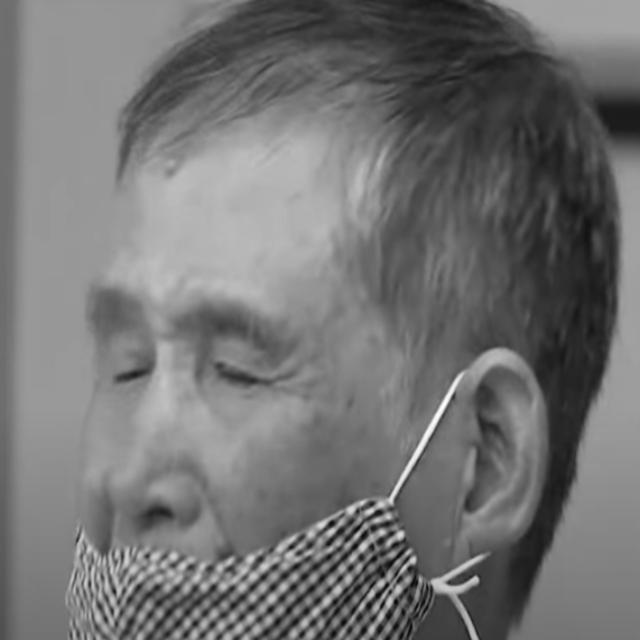hairnet: (67, 275, 430, 640)
